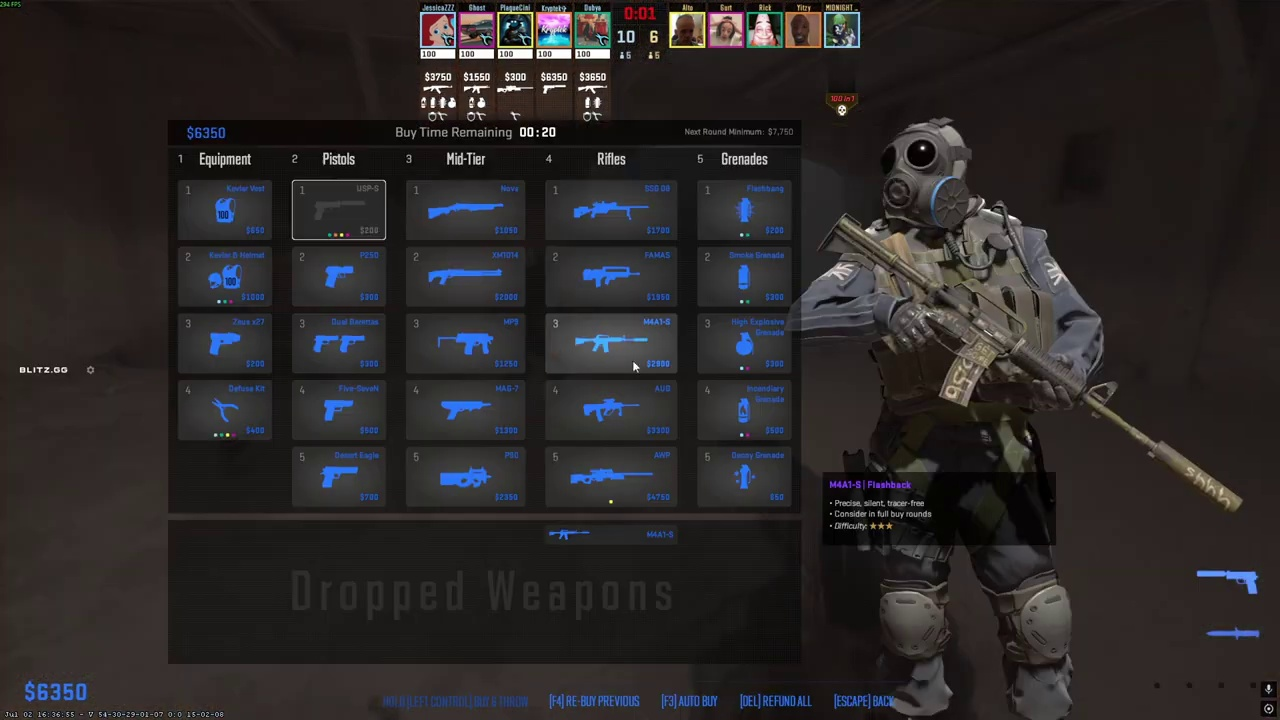CT: (850, 121, 1092, 720)
